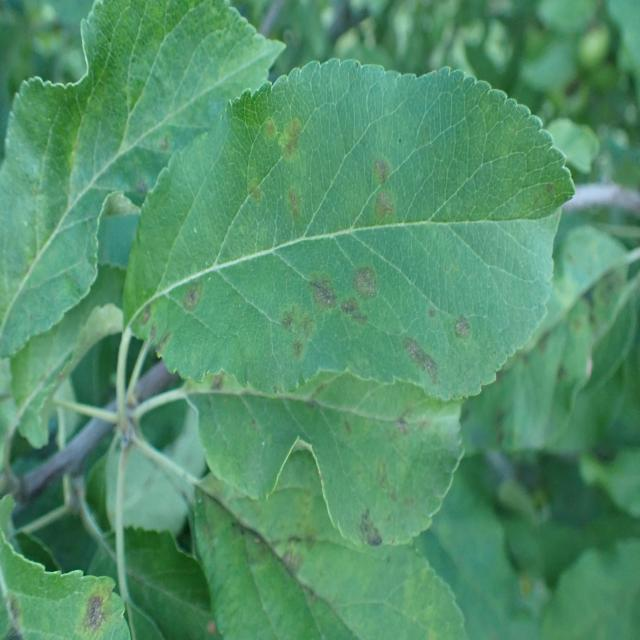scab: (144, 97, 554, 390), (218, 379, 494, 534), (190, 534, 377, 640), (0, 489, 124, 640)
